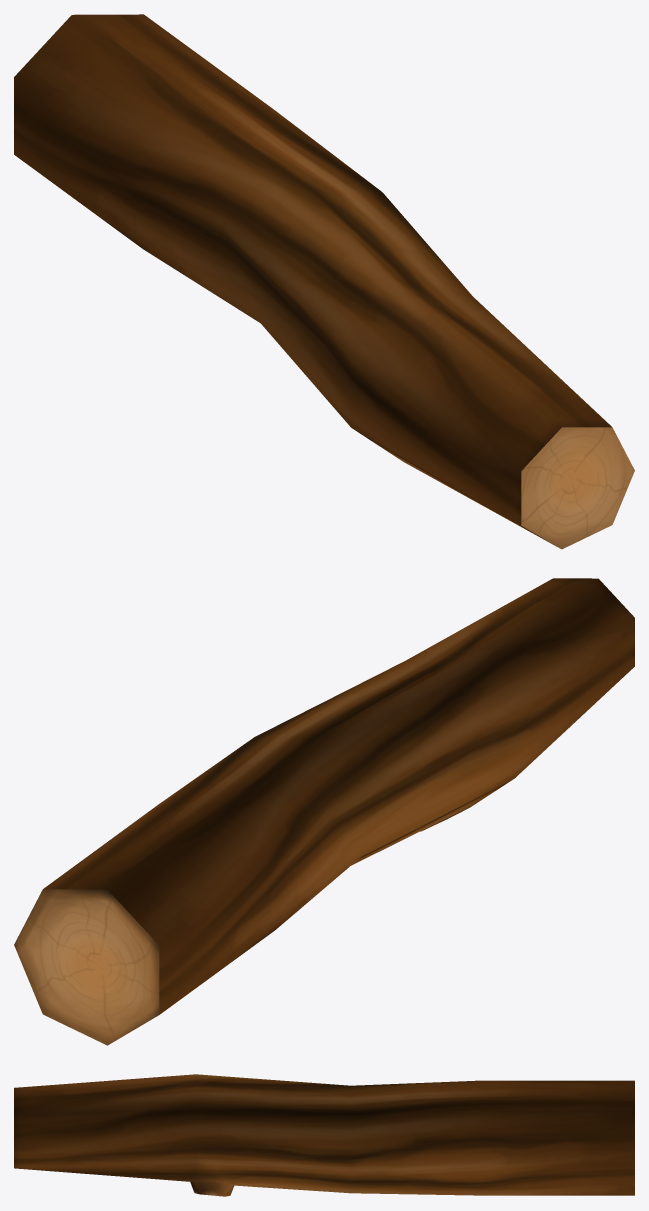
The model's file is log.FBX.
3 renders of one model, top to bottom at view 1: azimuth 30°, elevation 25°; view 2: azimuth 150°, elevation 25°; view 3: azimuth 270°, elevation 25°, orthographic. The views are drawn at different scales.
Parts seen in each view (by area): view 1: Log_002; view 2: Log_002; view 3: Log_002.
Boxes of the visible parts, x1=… form: Log_002: x1=14, y1=14, x2=634, y2=549; Log_002: x1=14, y1=578, x2=634, y2=1045; Log_002: x1=14, y1=1074, x2=634, y2=1196.
Bounding box in the file's own units: 24.27 × 22.31 × 114.
Materials: 1 (1 with a texture image).
